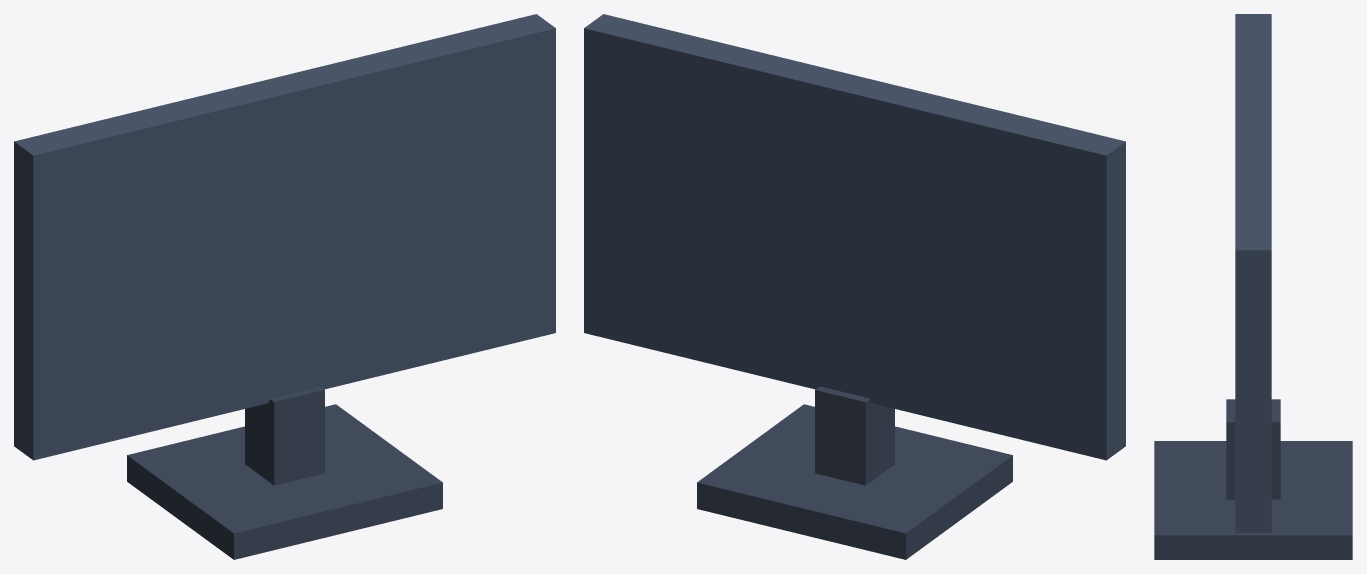
The model's file is monitor.glb.
The picture shows the model from 3 angles, left to right: view 1: azimuth 30°, elevation 25°; view 2: azimuth 150°, elevation 25°; view 3: azimuth 270°, elevation 25°; orthographic projection. The views are drawn at different scales.
Bounding box in the file's own units: 0.62 × 0.4654 × 0.22.
